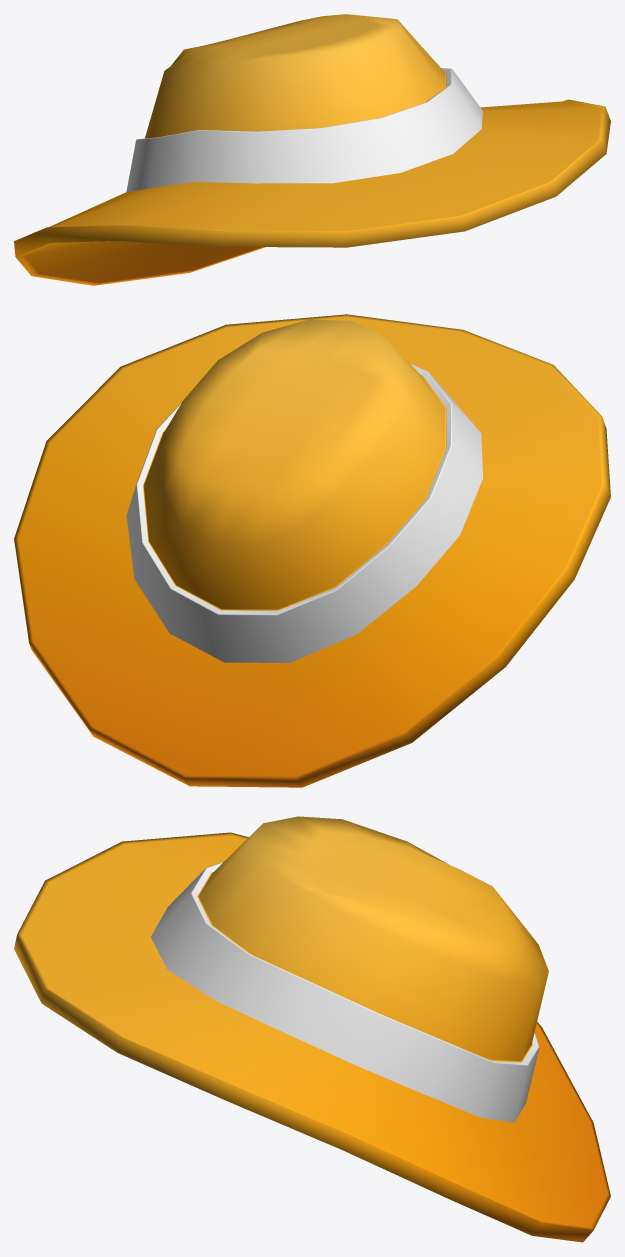
File: hat_010.glb
3 views of the same model, one above another, from view 1: azimuth 30°, elevation 25°; view 2: azimuth 150°, elevation 25°; view 3: azimuth 270°, elevation 25° (orthographic). The views are drawn at different scales.
Visible parts, largest first — view 1: Hat_010; view 2: Hat_010; view 3: Hat_010.
Boxes of the visible parts, x1,y1,x2,y2 form: Hat_010: [14, 14, 610, 285]; Hat_010: [14, 314, 610, 787]; Hat_010: [14, 816, 610, 1242].
Size of the model in its own units: 0.4937 by 0.3086 by 0.4537.
Materials: 1 (1 with a texture image).
